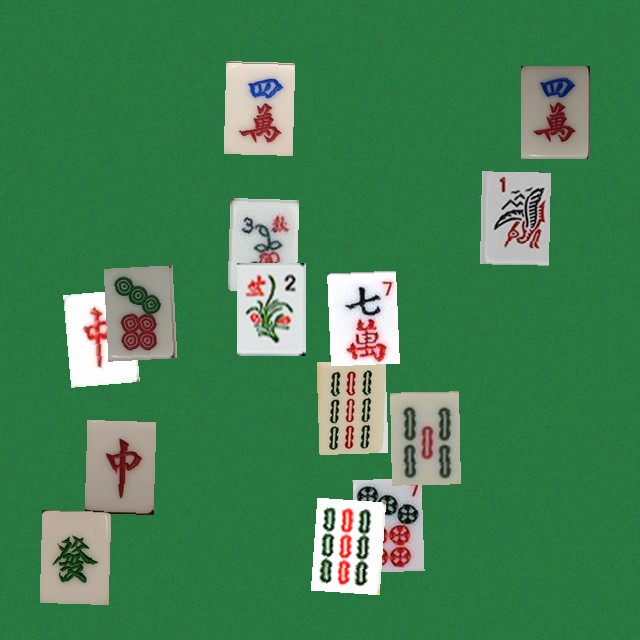tile: (227, 197, 296, 290), (352, 477, 421, 570), (236, 262, 305, 355), (223, 61, 292, 154), (310, 497, 379, 590), (479, 171, 548, 264), (84, 419, 153, 512), (39, 509, 108, 602), (520, 65, 589, 158), (63, 289, 132, 382), (316, 359, 385, 452), (390, 391, 459, 484), (103, 265, 172, 358), (327, 270, 396, 363)
